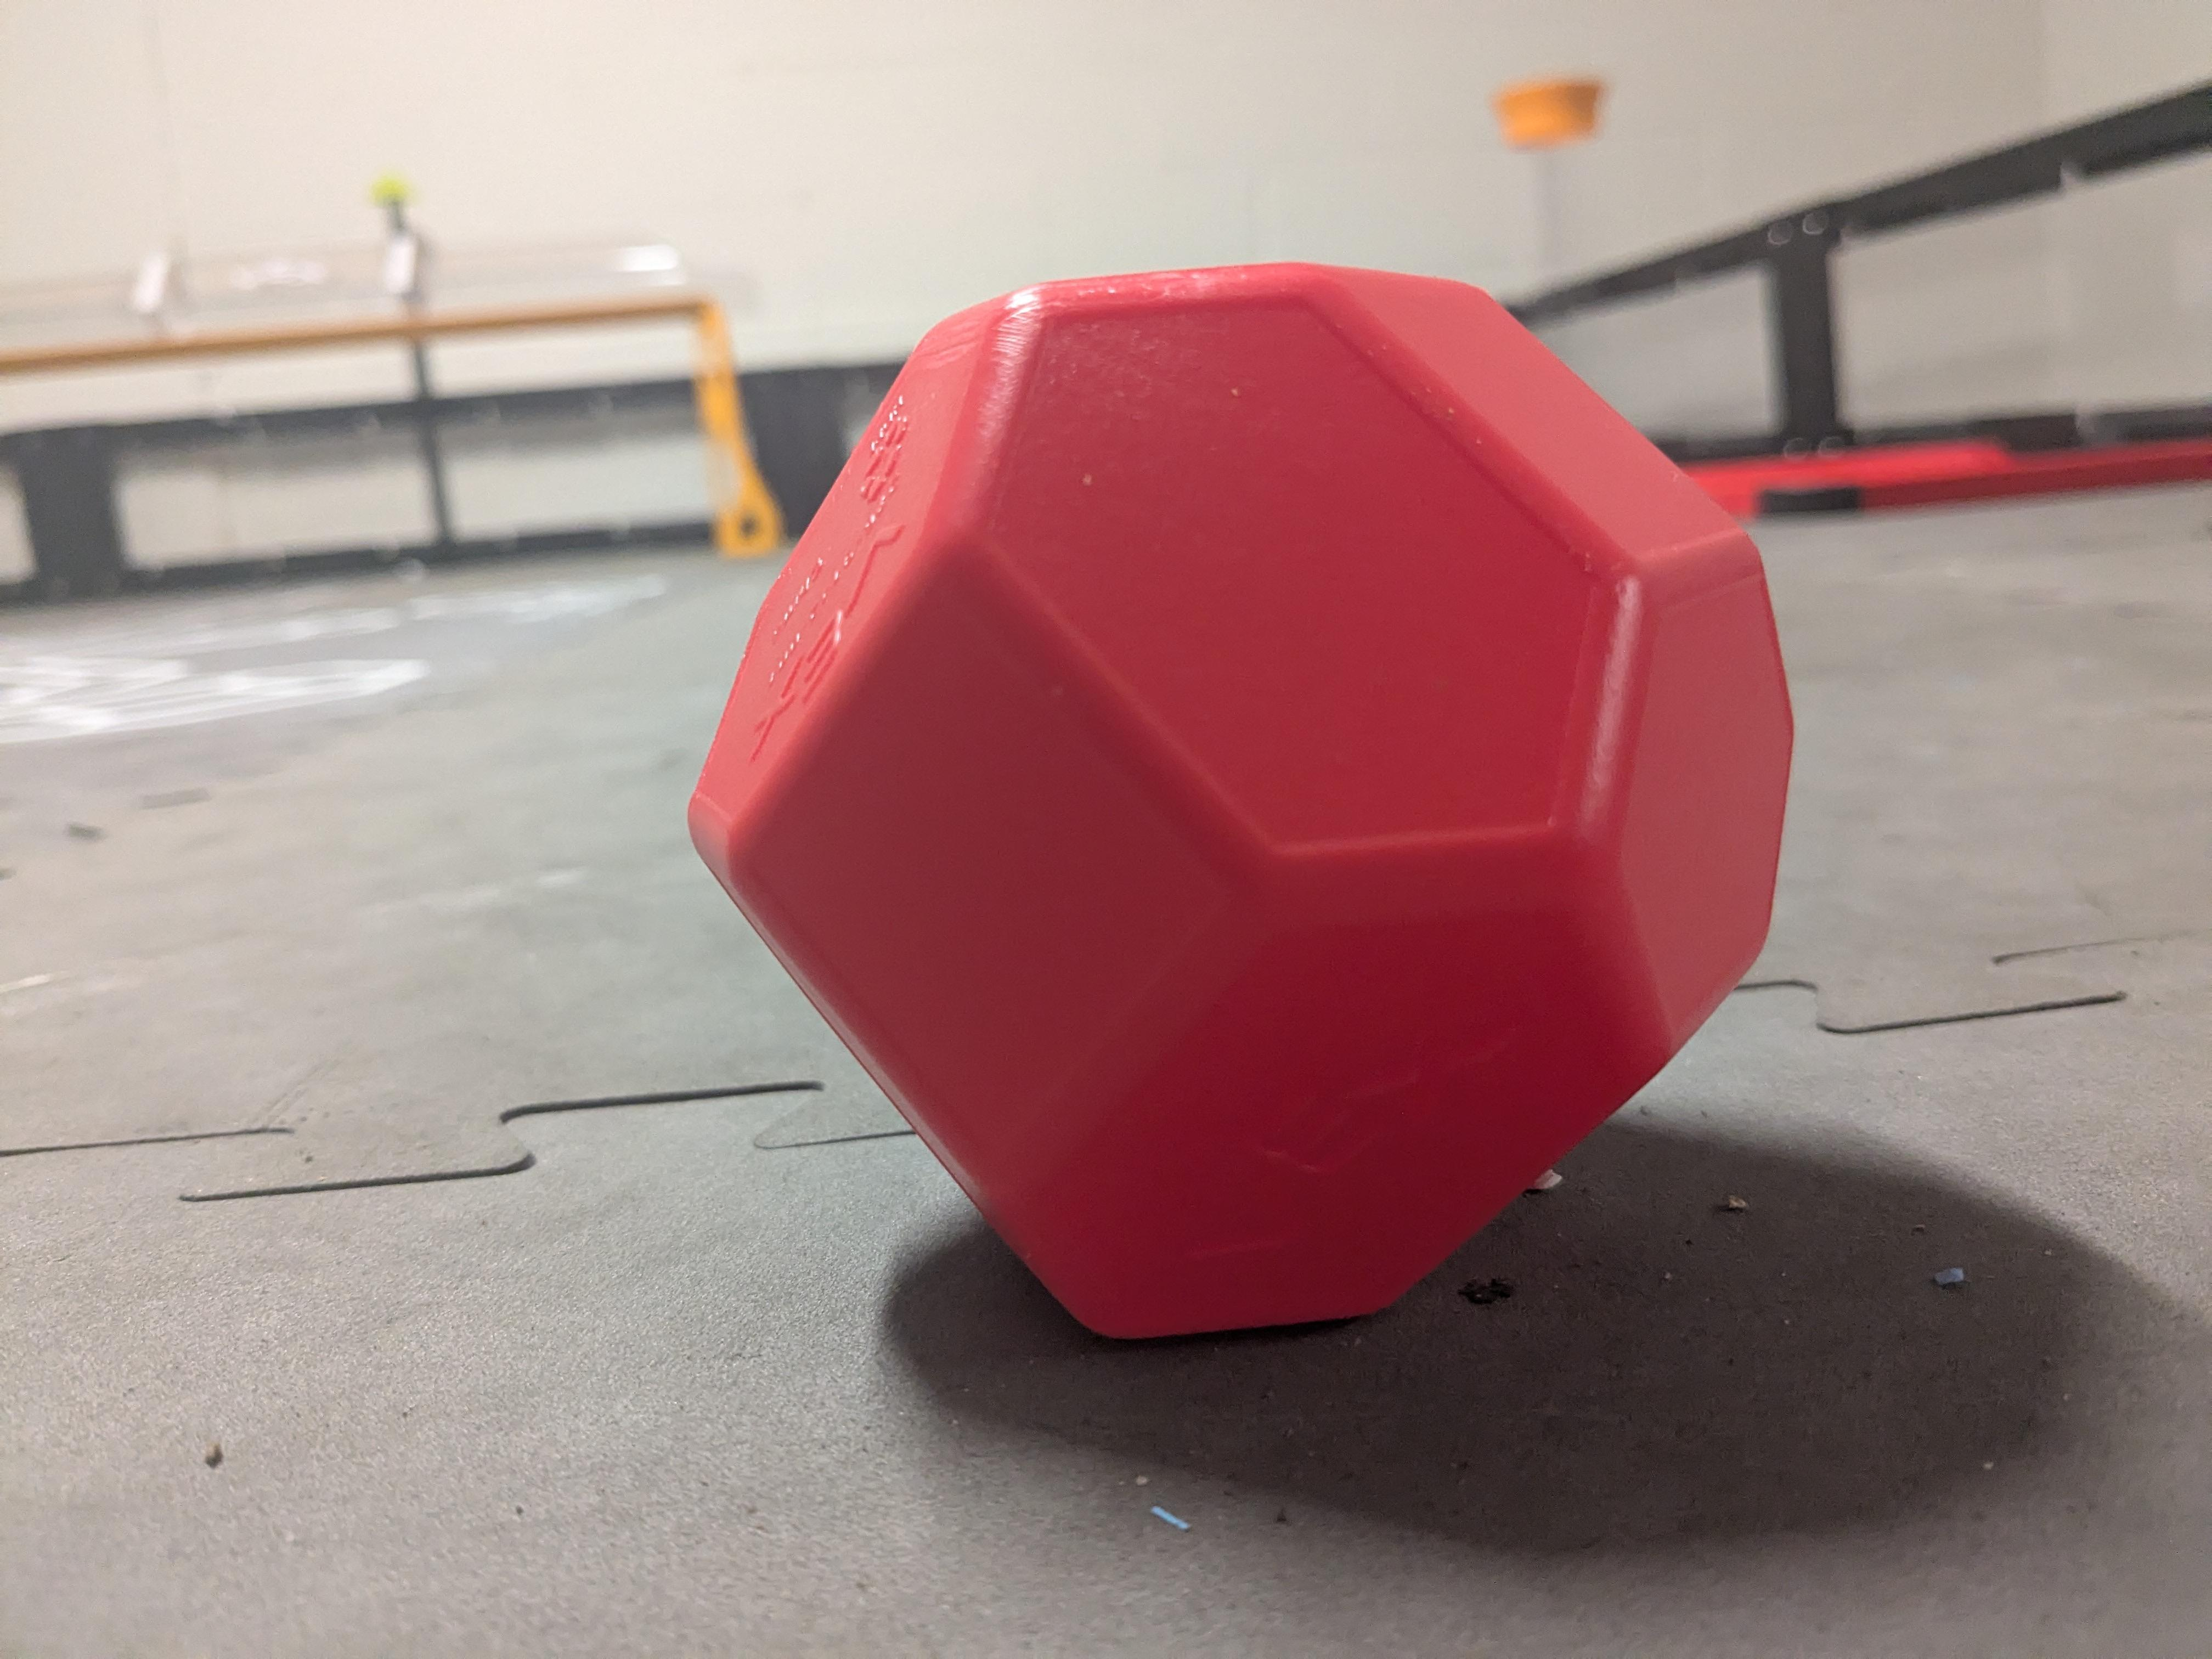Vex-Pieces-RED: (690, 265, 1792, 1337)
